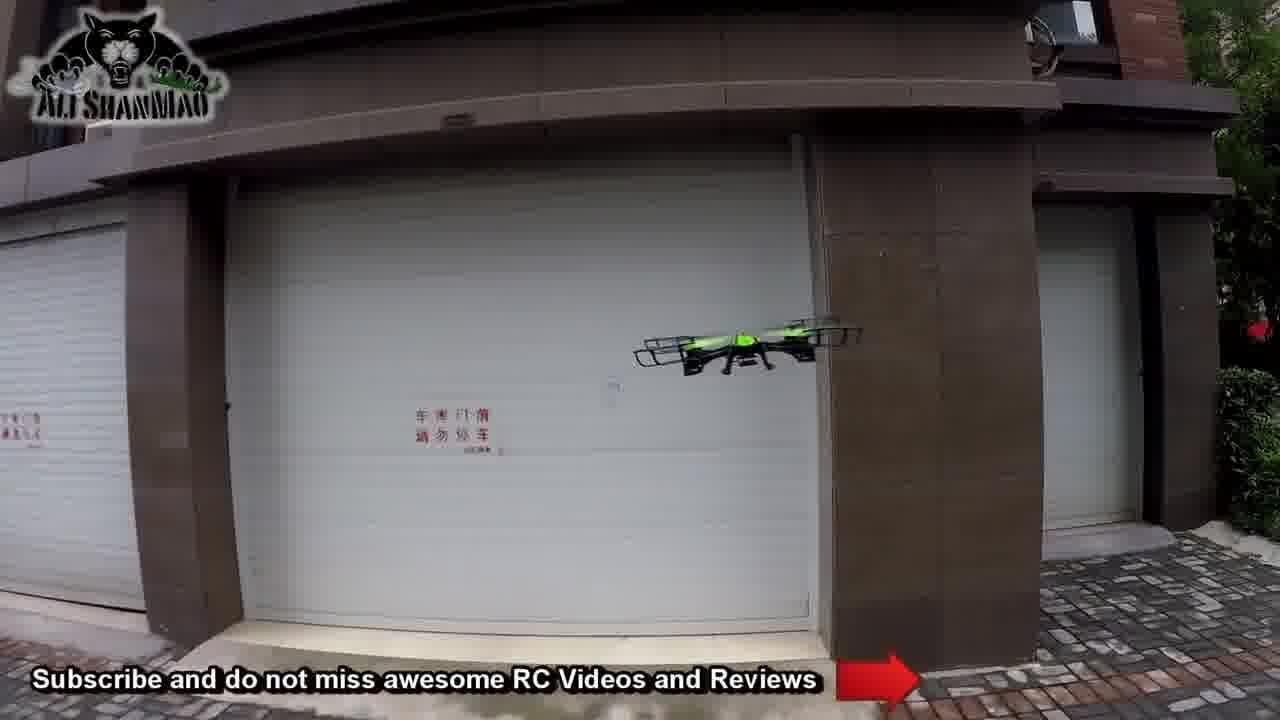drone: (626, 283, 854, 389)
